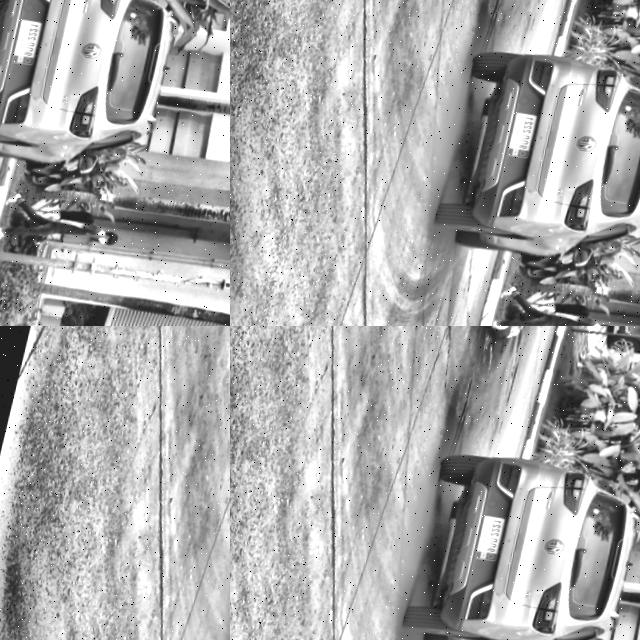license-plate: (476, 514, 514, 567)
